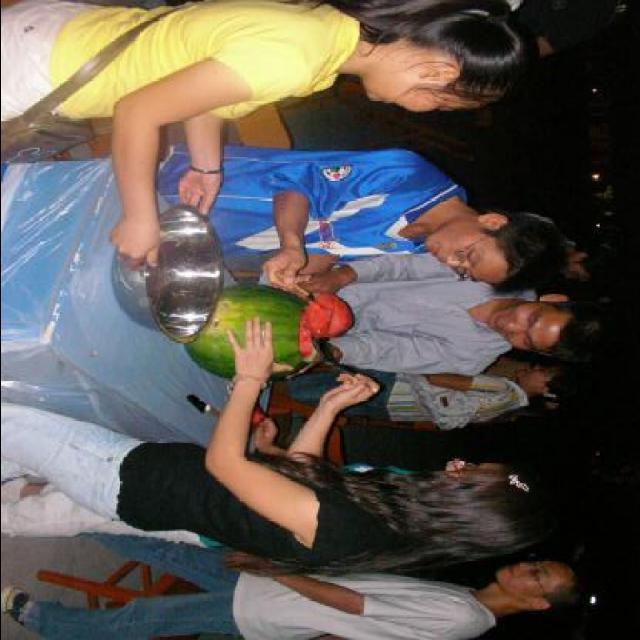Watermelon: (183, 293, 352, 377)
